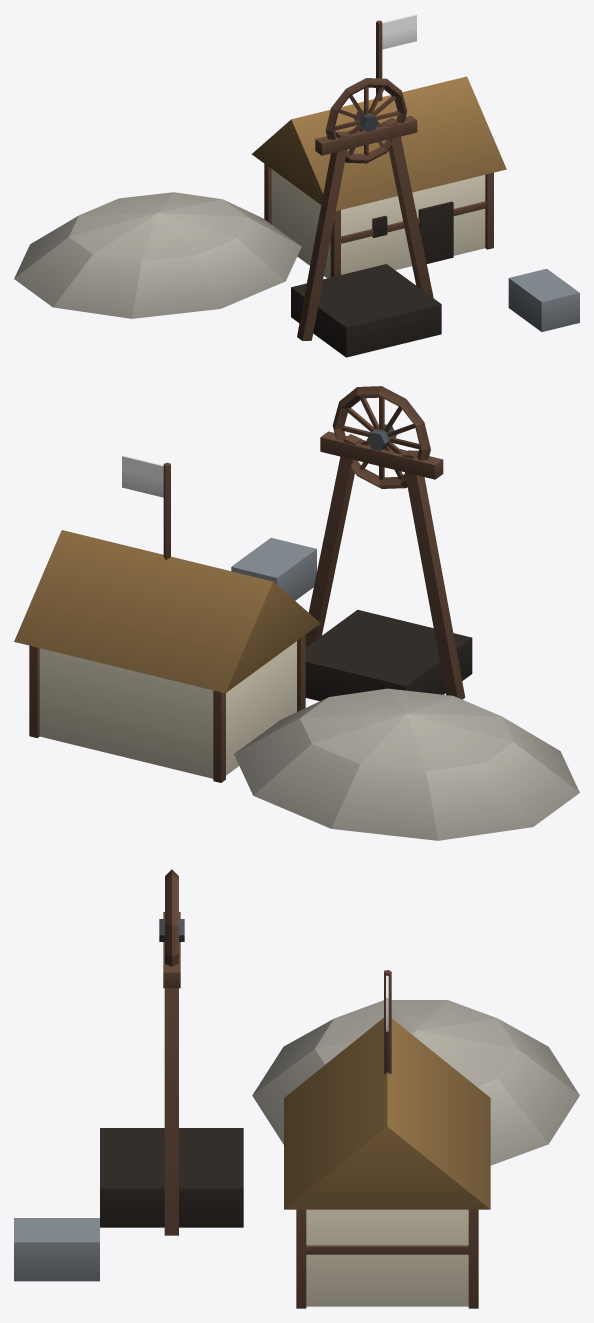
The model's file is MINE_NE.glb.
3 renders of one model, top to bottom at view 1: azimuth 30°, elevation 25°; view 2: azimuth 150°, elevation 25°; view 3: azimuth 270°, elevation 25°, orthographic. The views are drawn at different scales.
Visible parts, largest first — view 1: Body, Wheel_head, Flag; view 2: Body, Wheel_head, Flag; view 3: Body, Wheel_head.
Part boxes in pixels (box(x1,y1,x2,y2)): Body: box(14, 20, 579, 357); Wheel_head: box(325, 78, 407, 163); Flag: box(382, 14, 416, 49); Body: box(14, 431, 579, 840); Wheel_head: box(332, 386, 430, 488); Flag: box(122, 455, 163, 497); Body: box(14, 912, 579, 1308); Wheel_head: box(159, 869, 184, 966).
Size of the model in its own units: 4.42 by 2.48 by 3.94.
1 material, 1 textured.
